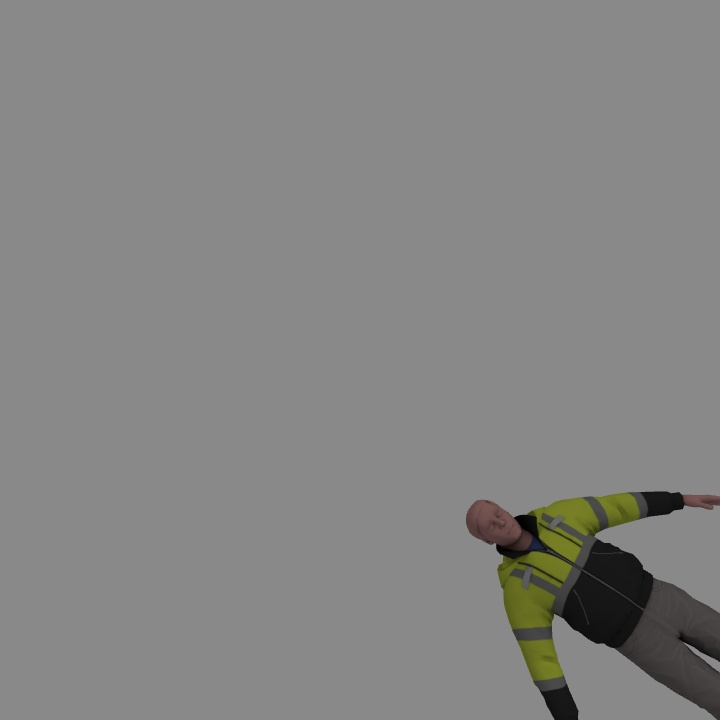victim: (464, 493, 718, 720)
